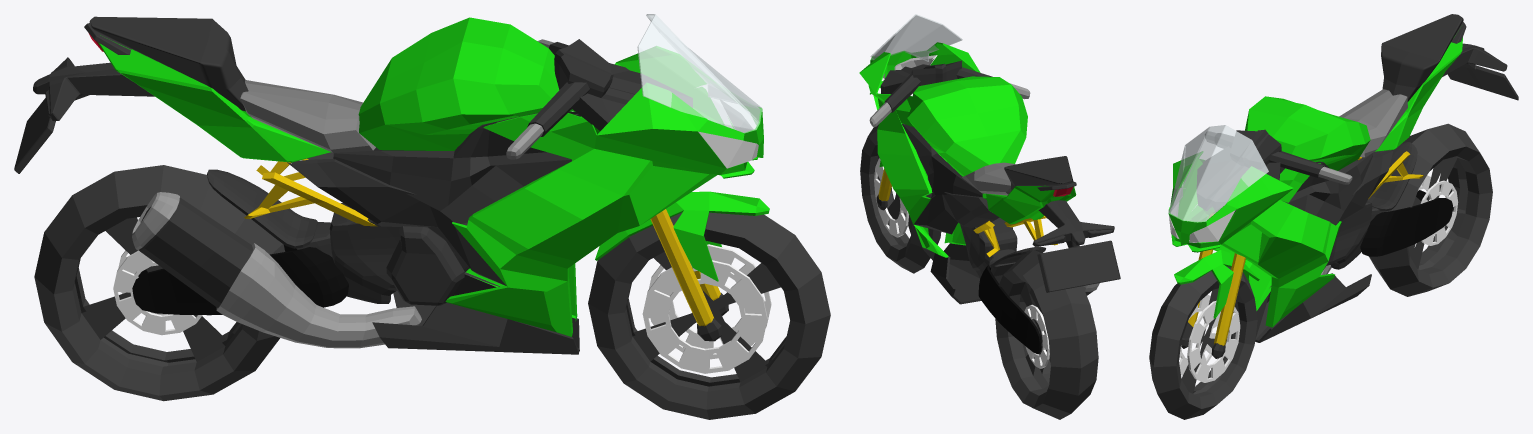
File: model-motocycle-animated.glb
3 views of the same model, side by side, from view 1: azimuth 30°, elevation 25°; view 2: azimuth 150°, elevation 25°; view 3: azimuth 270°, elevation 25° (orthographic). The views are drawn at different scales.
Parts seen in each view (by area): view 1: wheel-front.002, wheel-front.008, Plane.011, sit.002, sit.006, Plane.010, Plane.020, wheel-front.001, sit.001, Plane.014, Plane.012, sit.003 (+17 smaller); view 2: wheel-front.002, sit.002, sit.009, sit.006, Plane.011, wheel-front.008, Plane.010, Plane.022, Plane.012, Plane.014, sit.001, sit.003 (+12 smaller); view 3: wheel-front.002, wheel-front.008, Plane.011, Plane.012, sit.002, Plane.010, sit.003, sit.006, Plane.009, Plane.022, wheel-front.001, Plane.014 (+13 smaller).
Part boxes in pixels (x1,y1,x2,y2): wheel-front.002: (34,165,285,401); wheel-front.008: (588,212,830,419); Plane.011: (445,116,717,336); sit.002: (358,17,559,150); sit.006: (287,111,580,285); Plane.010: (483,46,763,178); Plane.020: (216,243,421,348); wheel-front.001: (642,244,771,373); sit.001: (98,35,330,162); Plane.014: (372,272,579,354); Plane.012: (637,14,762,133); sit.003: (89,16,248,111); wheel-front.002: (995,250,1098,419); sit.002: (907,76,1027,175); sit.009: (1032,200,1120,292); sit.006: (902,123,1005,234); Plane.011: (873,95,986,257); wheel-front.008: (860,124,941,273); Plane.010: (859,42,980,127); Plane.022: (978,264,1041,353); Plane.012: (870,14,962,61); Plane.014: (922,243,981,304); sit.001: (986,185,1076,224); sit.003: (1004,156,1073,190); wheel-front.002: (1369,123,1492,296); wheel-front.008: (1149,266,1257,419); Plane.011: (1185,200,1341,327); Plane.012: (1168,125,1268,222); sit.002: (1245,96,1370,170); Plane.010: (1168,151,1320,252); sit.003: (1381,14,1463,101); sit.006: (1280,150,1393,270); Plane.009: (1197,129,1281,212); Plane.022: (1360,190,1452,256); wheel-front.001: (1179,294,1240,382); Plane.014: (1255,273,1371,342).
Size of what is drawn, in the model's own units: 1.93 by 1.26 by 1.5.
